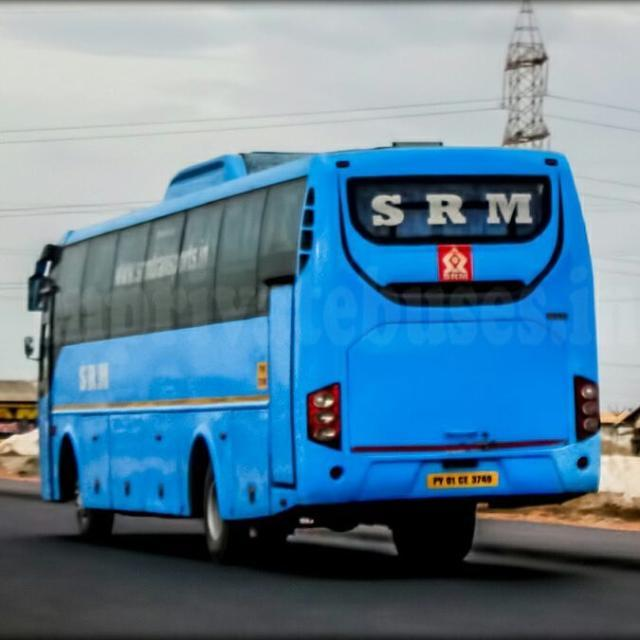Bus: (17, 135, 603, 562)
